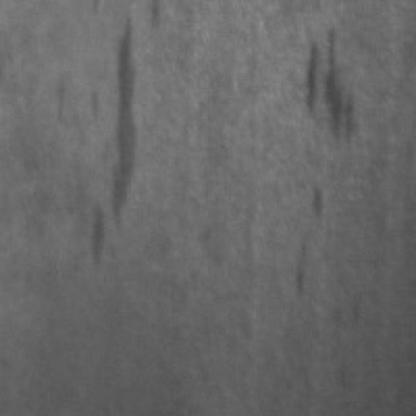inclusion: (75, 6, 137, 271), (287, 16, 362, 148), (281, 173, 331, 303)
